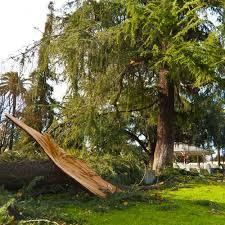Downstairs: (2, 110, 129, 205)
